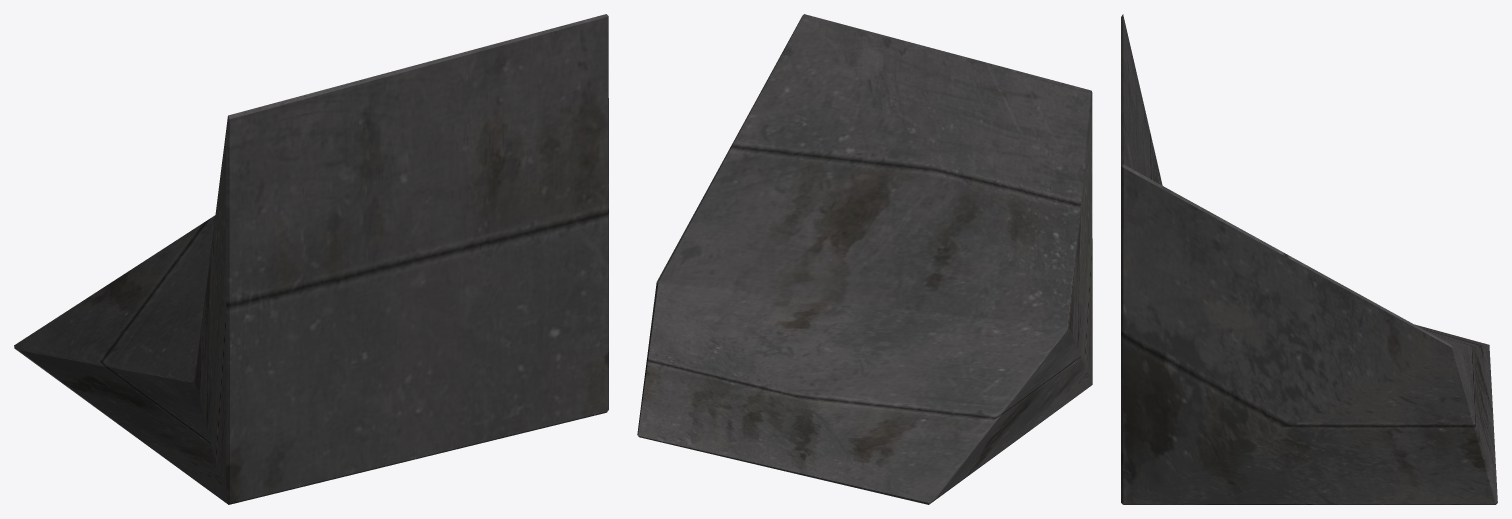
File: RubbleCube1.fbx
3 views of the same model, side by side, from view 1: azimuth 30°, elevation 25°; view 2: azimuth 150°, elevation 25°; view 3: azimuth 270°, elevation 25° (orthographic). The views are drawn at different scales.
Visible parts, largest first — view 1: RubbleCube1; view 2: RubbleCube1; view 3: RubbleCube1.
Boxes of the visible parts, left/top/right/bottom form: RubbleCube1: left=14, top=14, right=608, bottom=504; RubbleCube1: left=637, top=14, right=1092, bottom=504; RubbleCube1: left=1121, top=14, right=1497, bottom=504.
Size of the model in its own units: 1 by 0.9957 by 0.9984.
